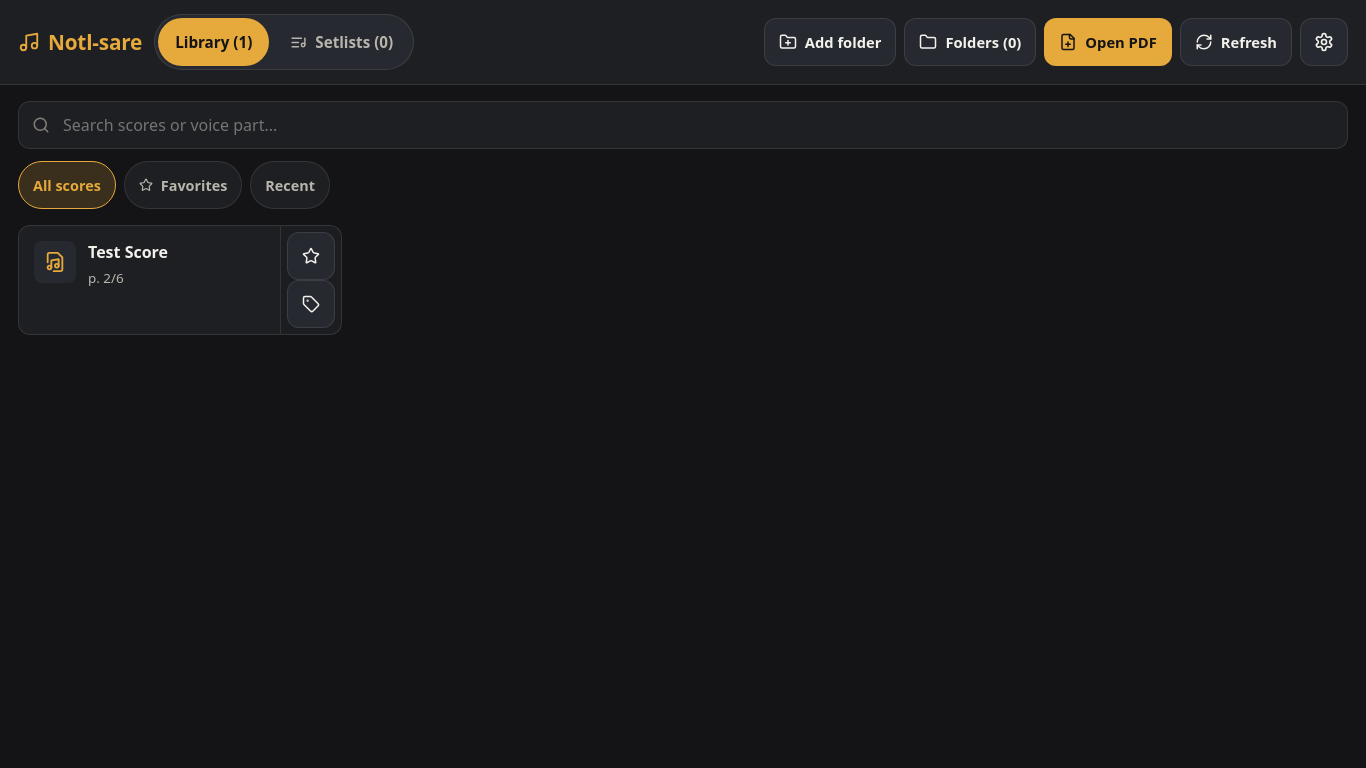
LibraryView & SetlistView › localizes suggested choir tags and dismisses modals on Escape
Click the button named "Edit title & tags" at (310, 304), box x1=286 y1=280 x2=334 y2=328
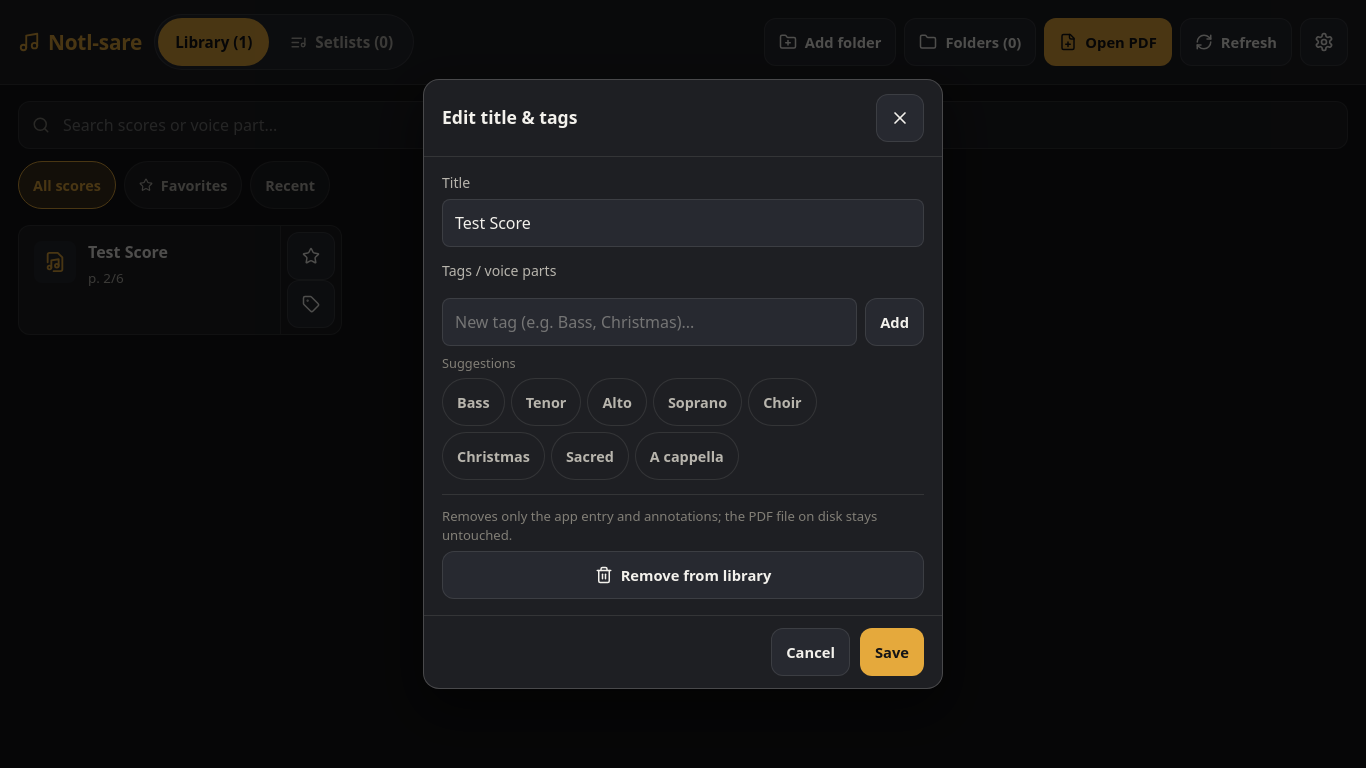
Result: the text "Suggestions" is shown at x1=442 y1=354 x2=516 y2=372
Result: the button "Bass" is shown at x1=442 y1=378 x2=505 y2=426
Result: the button "Soprano" is shown at x1=653 y1=378 x2=742 y2=426
Press Escape
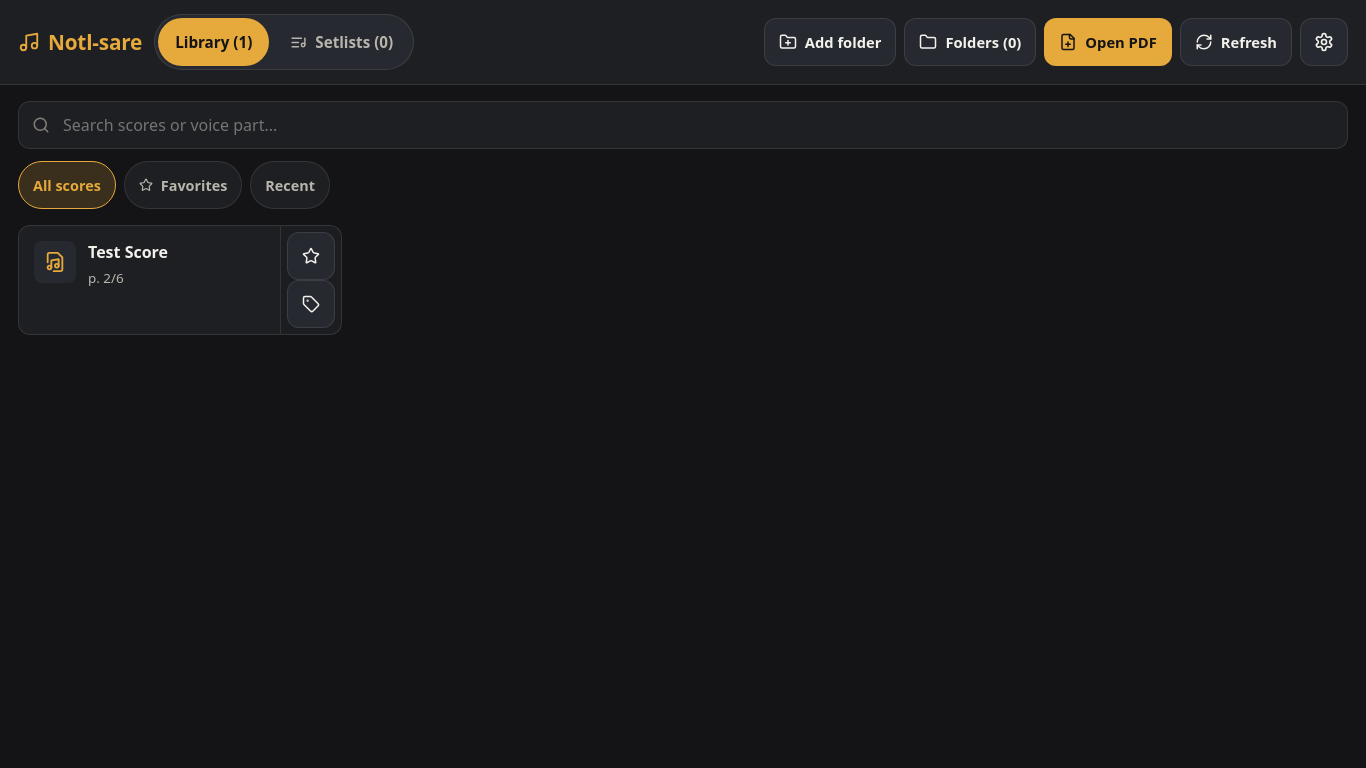
Result: the dialog is gone
